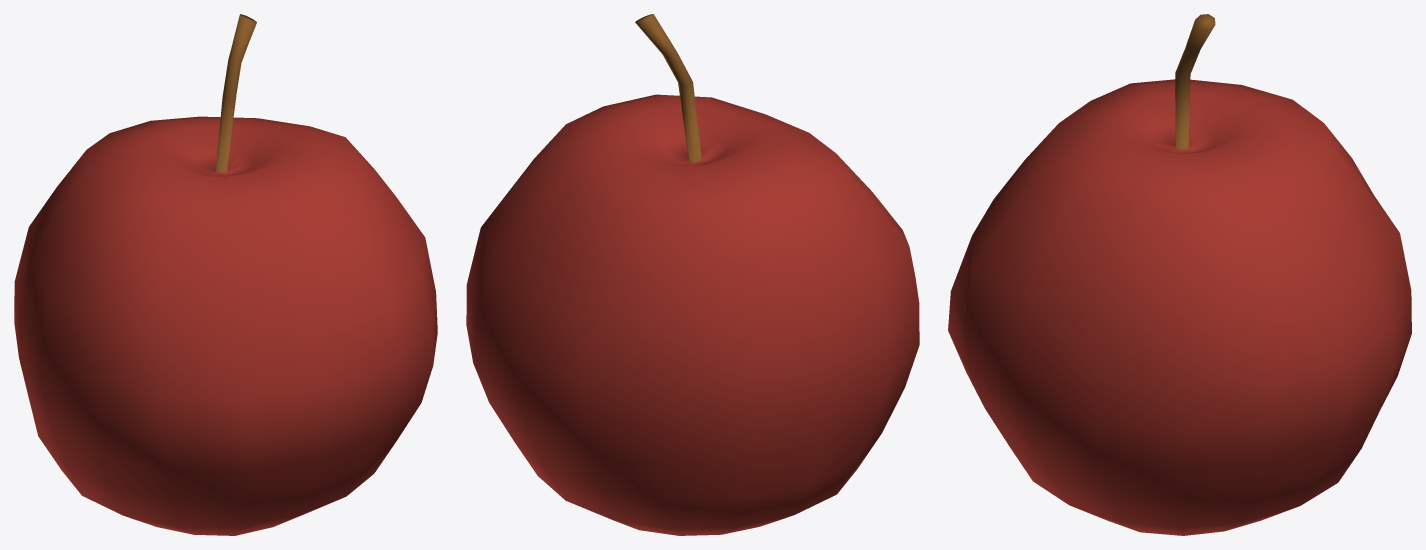
The model's file is food_apple.fbx.
3 views of the same model, side by side, from view 1: azimuth 30°, elevation 25°; view 2: azimuth 150°, elevation 25°; view 3: azimuth 270°, elevation 25° (orthographic). The views are drawn at different scales.
Visible parts, largest first — view 1: food_apple; view 2: food_apple; view 3: food_apple.
Part boxes in pixels (box(x1,y1,x2,y2)): food_apple: box(14, 14, 437, 535); food_apple: box(466, 14, 919, 535); food_apple: box(948, 14, 1411, 535).
Bounding box in the file's own units: 7.2 × 8.52 × 7.22.
